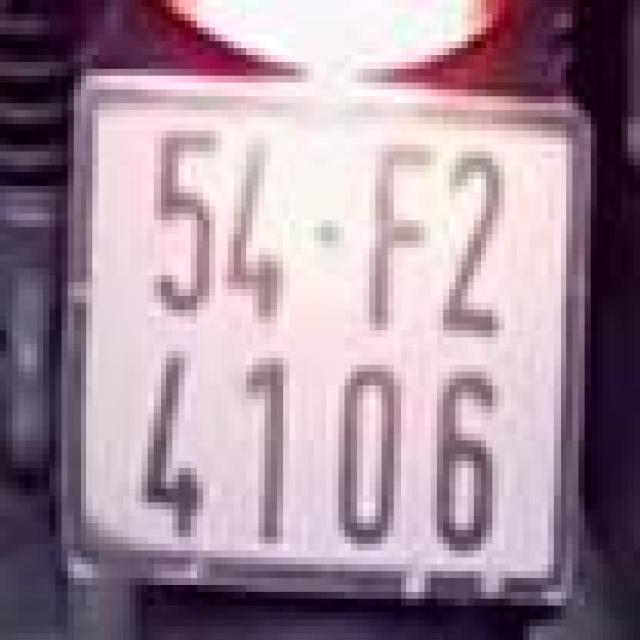0: (317, 344, 403, 551)
1: (237, 341, 292, 554)
2: (434, 131, 514, 344)
4: (129, 347, 203, 561), (225, 120, 286, 327)
5: (144, 114, 218, 320)
6: (412, 358, 505, 578)
F: (348, 124, 440, 344)
